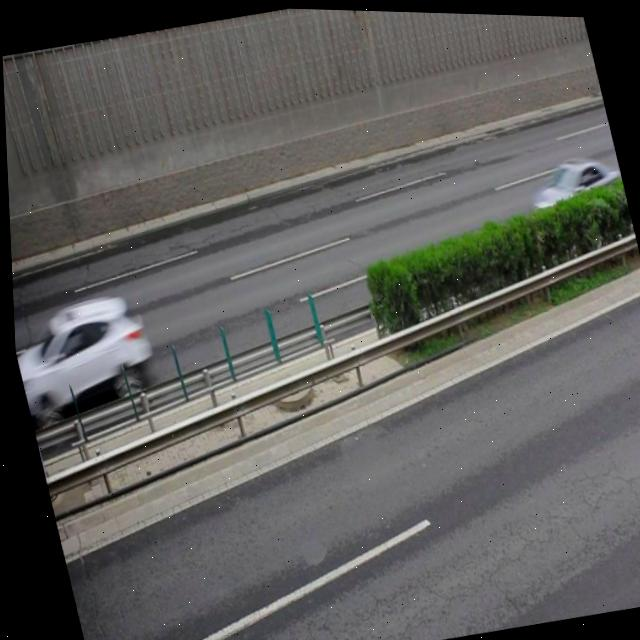car: (10, 287, 161, 429), (521, 144, 630, 247)
